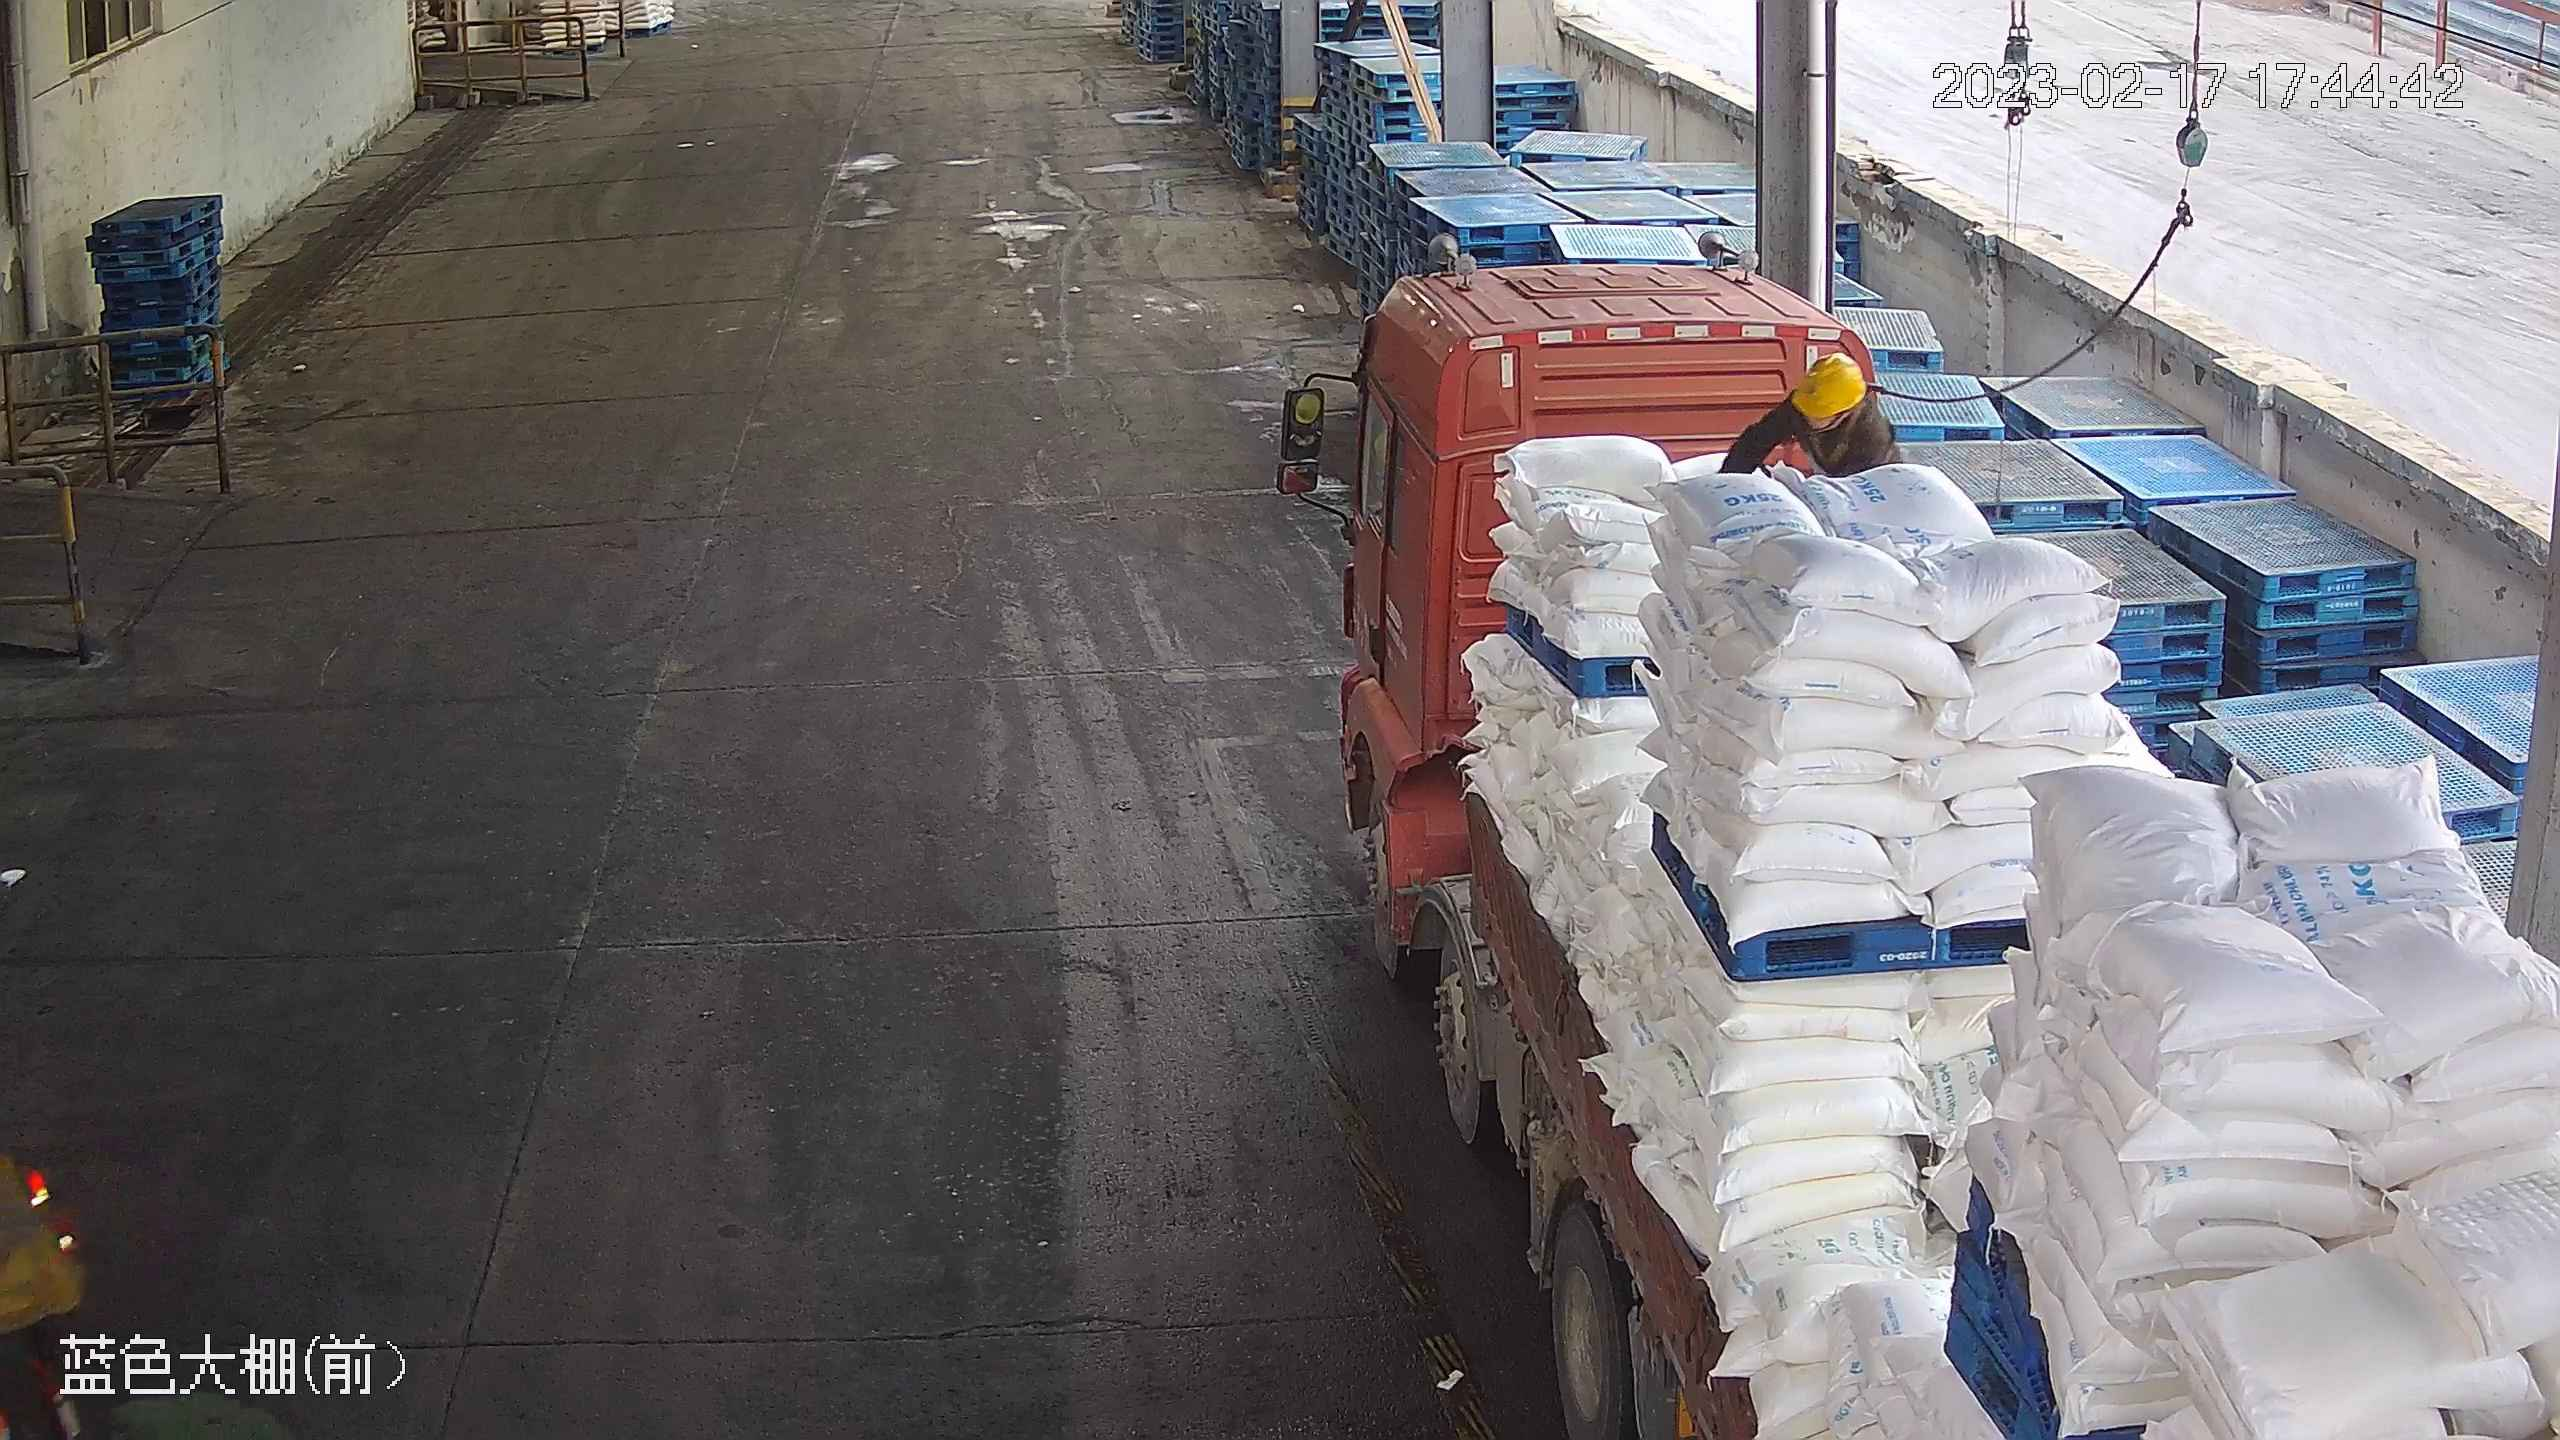belt: (1796, 402, 1866, 473)
head: (1739, 353, 1898, 462)
helmet: (1792, 352, 1868, 418)
truck: (1267, 245, 2560, 1440)
